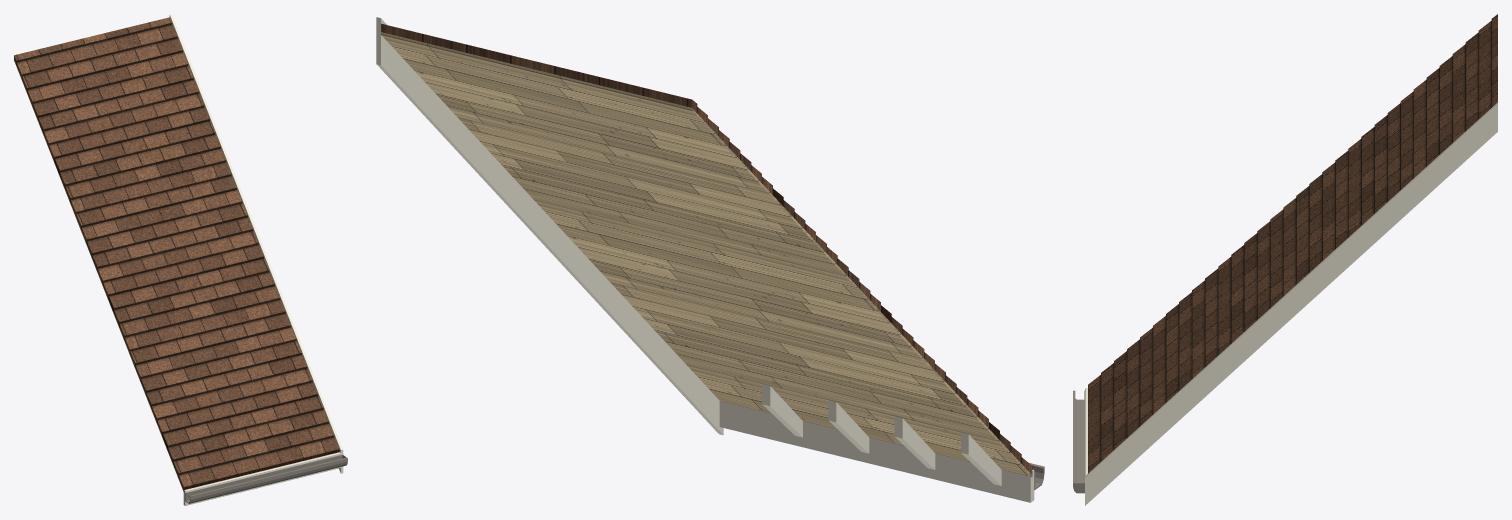
File: roof_eave_b.glb
The picture shows the model from 3 angles, left to right: view 1: azimuth 30°, elevation 25°; view 2: azimuth 150°, elevation 25°; view 3: azimuth 270°, elevation 25°; orthographic projection. The views are drawn at different scales.
Parts seen in each view (by area): view 1: roof_eave_b_shingles, roof_eave_b_trim, roof_eave_b_gutter, roof_eave_b_ceil; view 2: roof_eave_b_ceil, roof_eave_b_trim, roof_eave_b_shingles; view 3: roof_eave_b_shingles, roof_eave_b_trim, roof_eave_b_gutter.
Boxes of the visible parts, box(x1,y1,x2,y2) form: roof_eave_b_shingles: box(14, 17, 339, 491); roof_eave_b_trim: box(169, 14, 343, 505); roof_eave_b_gutter: box(185, 454, 347, 503); roof_eave_b_ceil: box(14, 60, 184, 492); roof_eave_b_ceil: box(381, 32, 1032, 477); roof_eave_b_trim: box(376, 17, 1034, 502); roof_eave_b_shingles: box(381, 23, 1032, 474); roof_eave_b_shingles: box(1088, 14, 1497, 473); roof_eave_b_trim: box(1085, 102, 1497, 505); roof_eave_b_gutter: box(1073, 390, 1084, 493).
Bounding box in the file's own units: 2.38 × 4.82 × 4.61.
4 materials, 2 textured.
